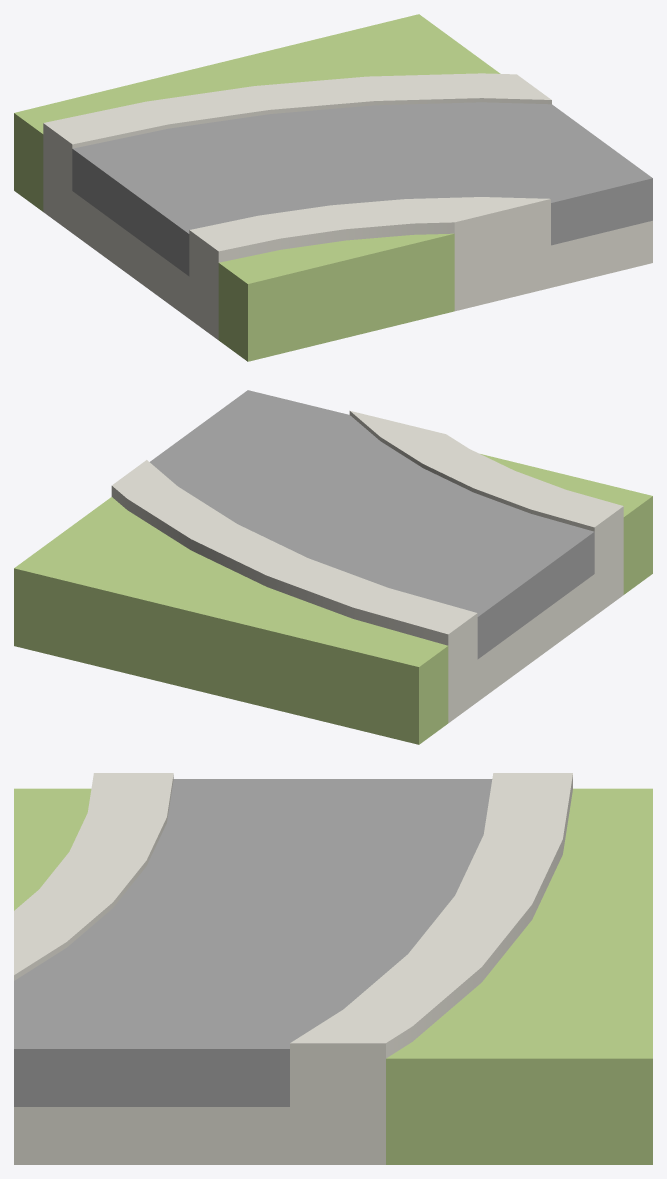
Rendered from tile149.glb.
3 views of the same model, one above another, from view 1: azimuth 30°, elevation 25°; view 2: azimuth 150°, elevation 25°; view 3: azimuth 270°, elevation 25° (orthographic). The views are drawn at different scales.
Visible parts, largest first — view 1: tile149; view 2: tile149; view 3: tile149.
Boxes of the visible parts, bbox=[...] form: tile149: bbox=[14, 14, 652, 361]; tile149: bbox=[14, 390, 652, 744]; tile149: bbox=[14, 773, 652, 1164].
Bounding box in the file's own units: 1 × 0.21 × 1.
